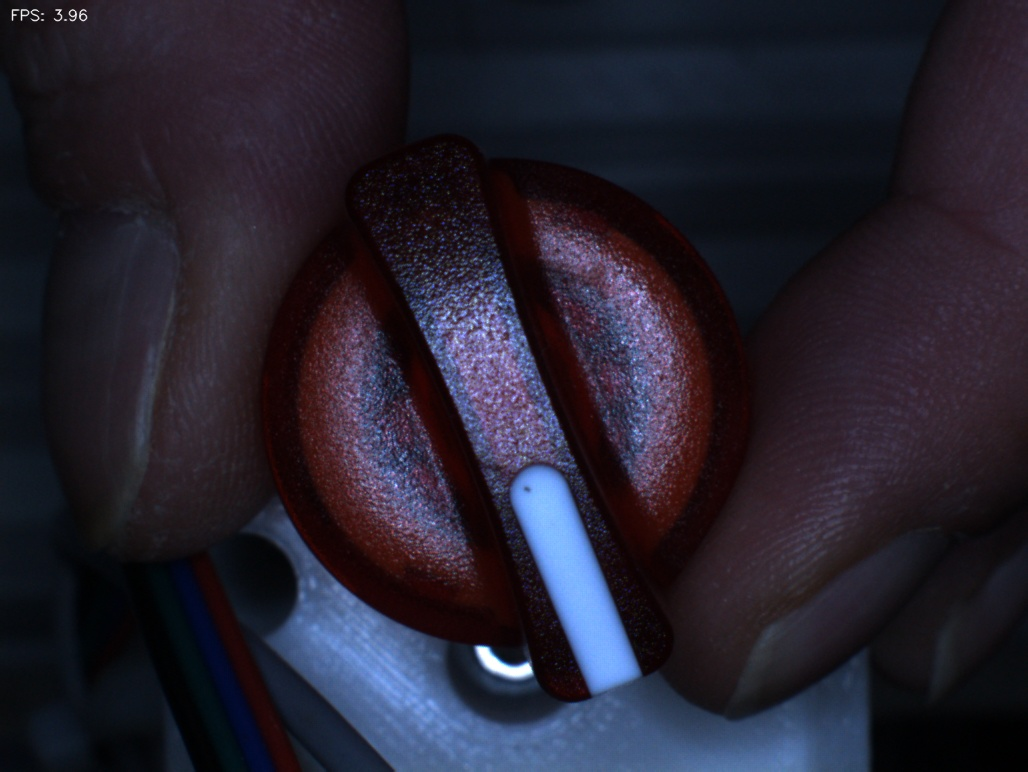PointNoir: (490, 451, 556, 518)
